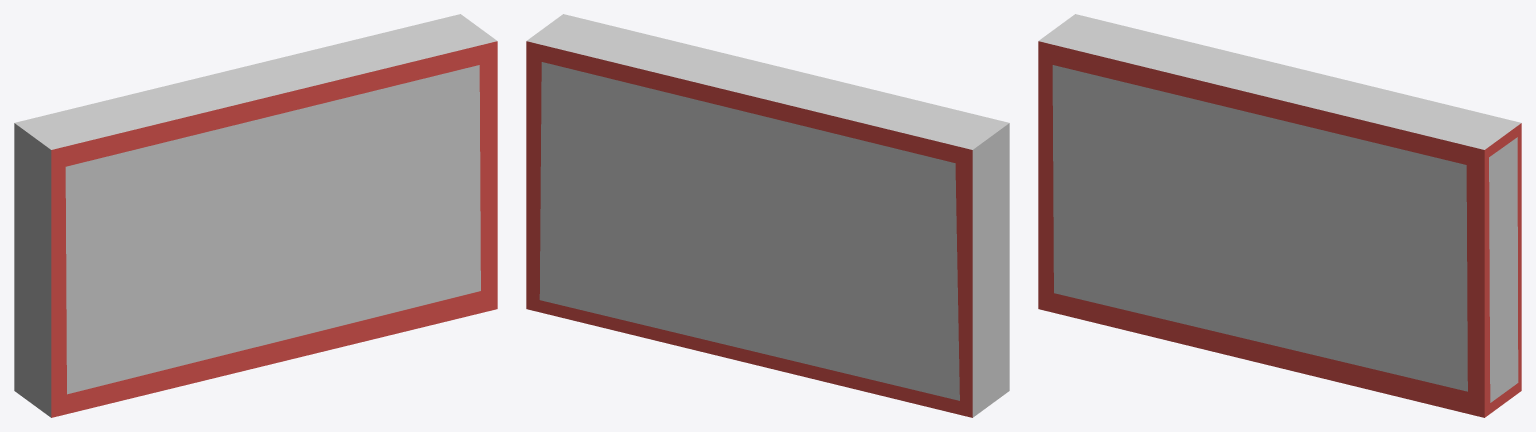
File: wall1.fbx
3 renders of one model, left to right at view 1: azimuth 30°, elevation 25°; view 2: azimuth 150°, elevation 25°; view 3: azimuth 330°, elevation 25°, orthographic.
Visible parts, largest first — view 1: Cube; view 2: Cube; view 3: Cube.
Boxes of the visible parts, bbox=[...] form: Cube: bbox=[14, 14, 497, 417]; Cube: bbox=[526, 14, 1009, 417]; Cube: bbox=[1038, 14, 1521, 417].
Size of the model in its own units: 1391 by 798 by 200.
